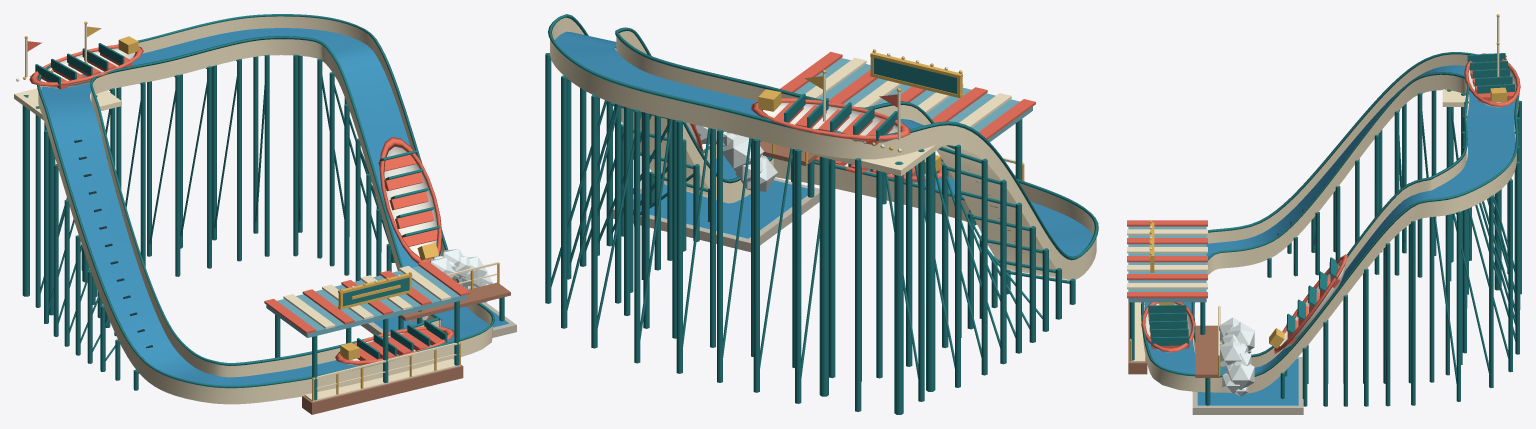
File: ride_splash.glb
3 views of the same model, side by side, from view 1: azimuth 30°, elevation 25°; view 2: azimuth 150°, elevation 25°; view 3: azimuth 270°, elevation 25° (orthographic). The views are drawn at different scales.
Parts seen in each view (by area): view 1: ride_splash; view 2: ride_splash; view 3: ride_splash.
Boxes of the visible parts, box(x1,y1,x2,y2) form: ride_splash: box(14, 14, 516, 414); ride_splash: box(545, 14, 1098, 414); ride_splash: box(1127, 14, 1521, 414).
Size of the model in its own units: 15.45 by 10.8 by 15.64.
